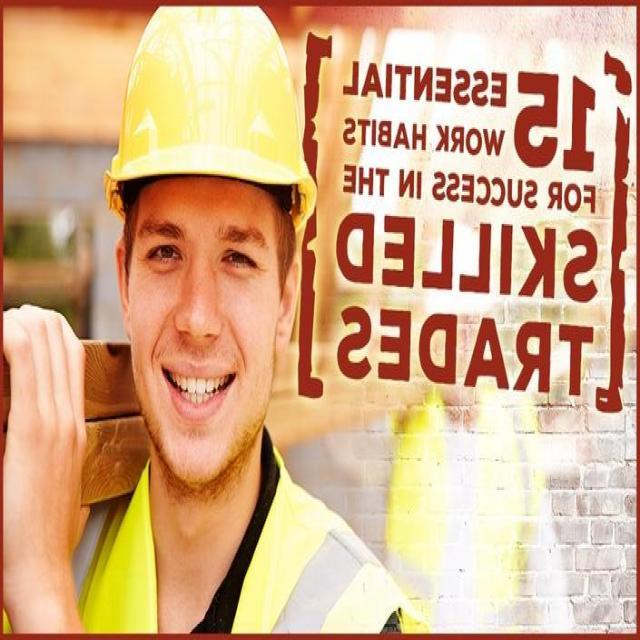reflective_jacket: (77, 459, 410, 637)
safety_helmet: (105, 7, 315, 205)
